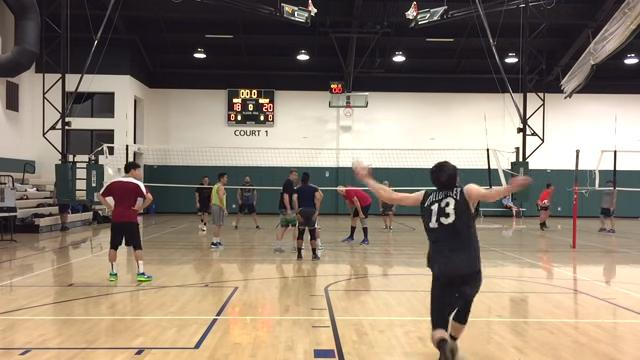Player: (346, 156, 534, 359), (99, 162, 152, 281), (293, 172, 321, 260), (337, 186, 371, 244), (274, 169, 297, 252), (235, 176, 260, 229), (211, 172, 227, 248), (195, 176, 211, 232), (53, 182, 70, 231), (379, 199, 394, 230), (316, 219, 323, 249)
